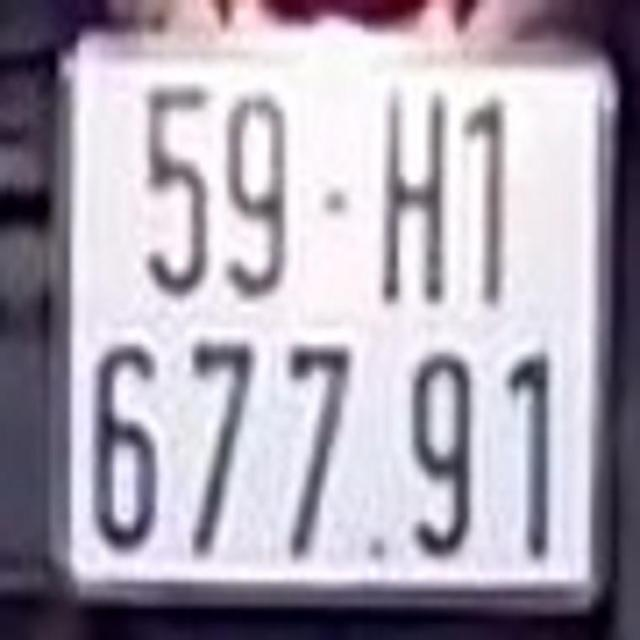1: (505, 347, 559, 560), (462, 96, 510, 305)
5: (144, 81, 212, 296)
6: (92, 339, 161, 551)
7: (188, 337, 254, 557), (286, 338, 351, 559)
9: (409, 347, 474, 557), (224, 91, 289, 298)
H: (381, 89, 449, 305)
